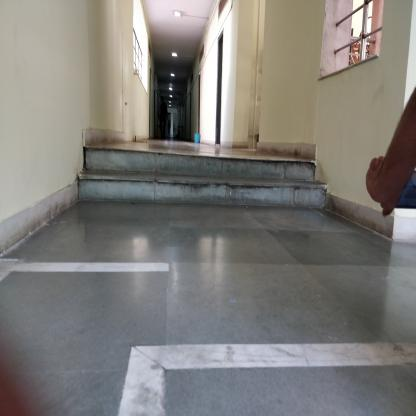stairs: (88, 152, 310, 208)
